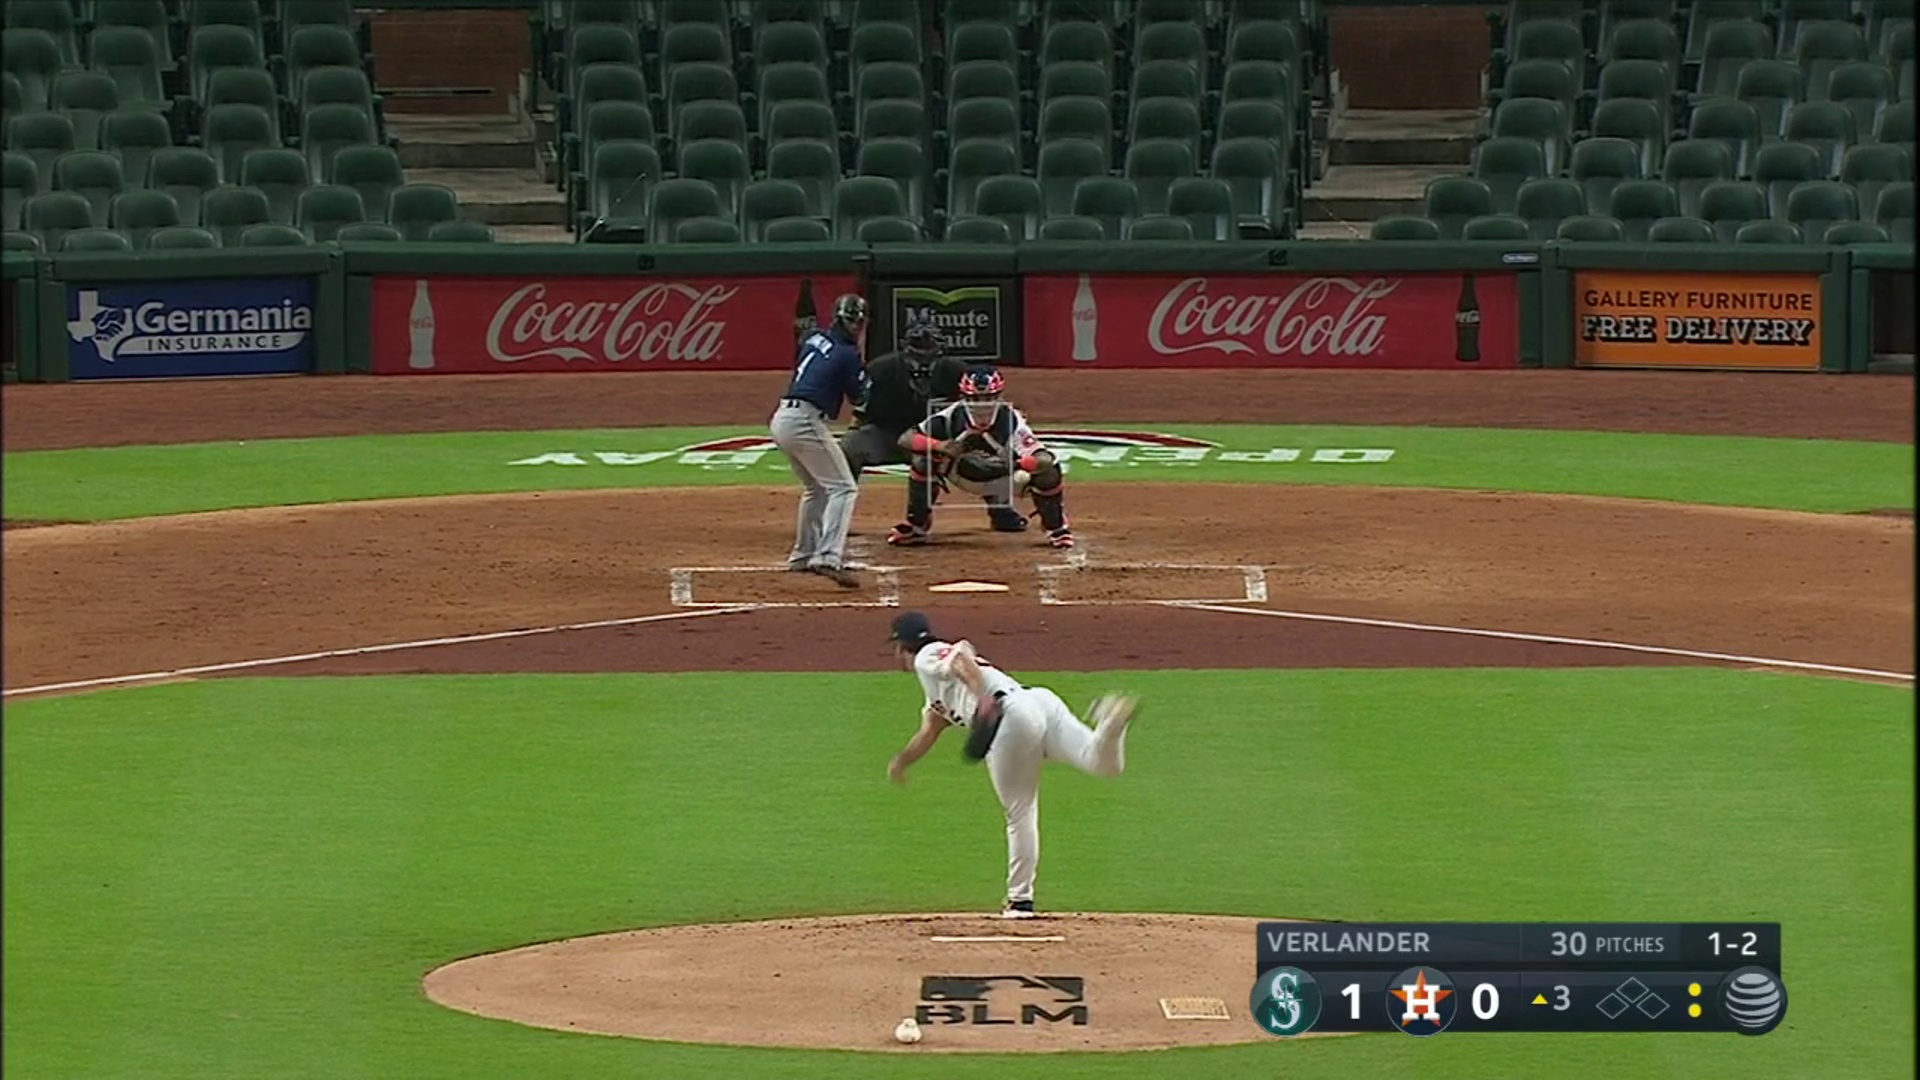baseball: (1013, 469, 1029, 484)
